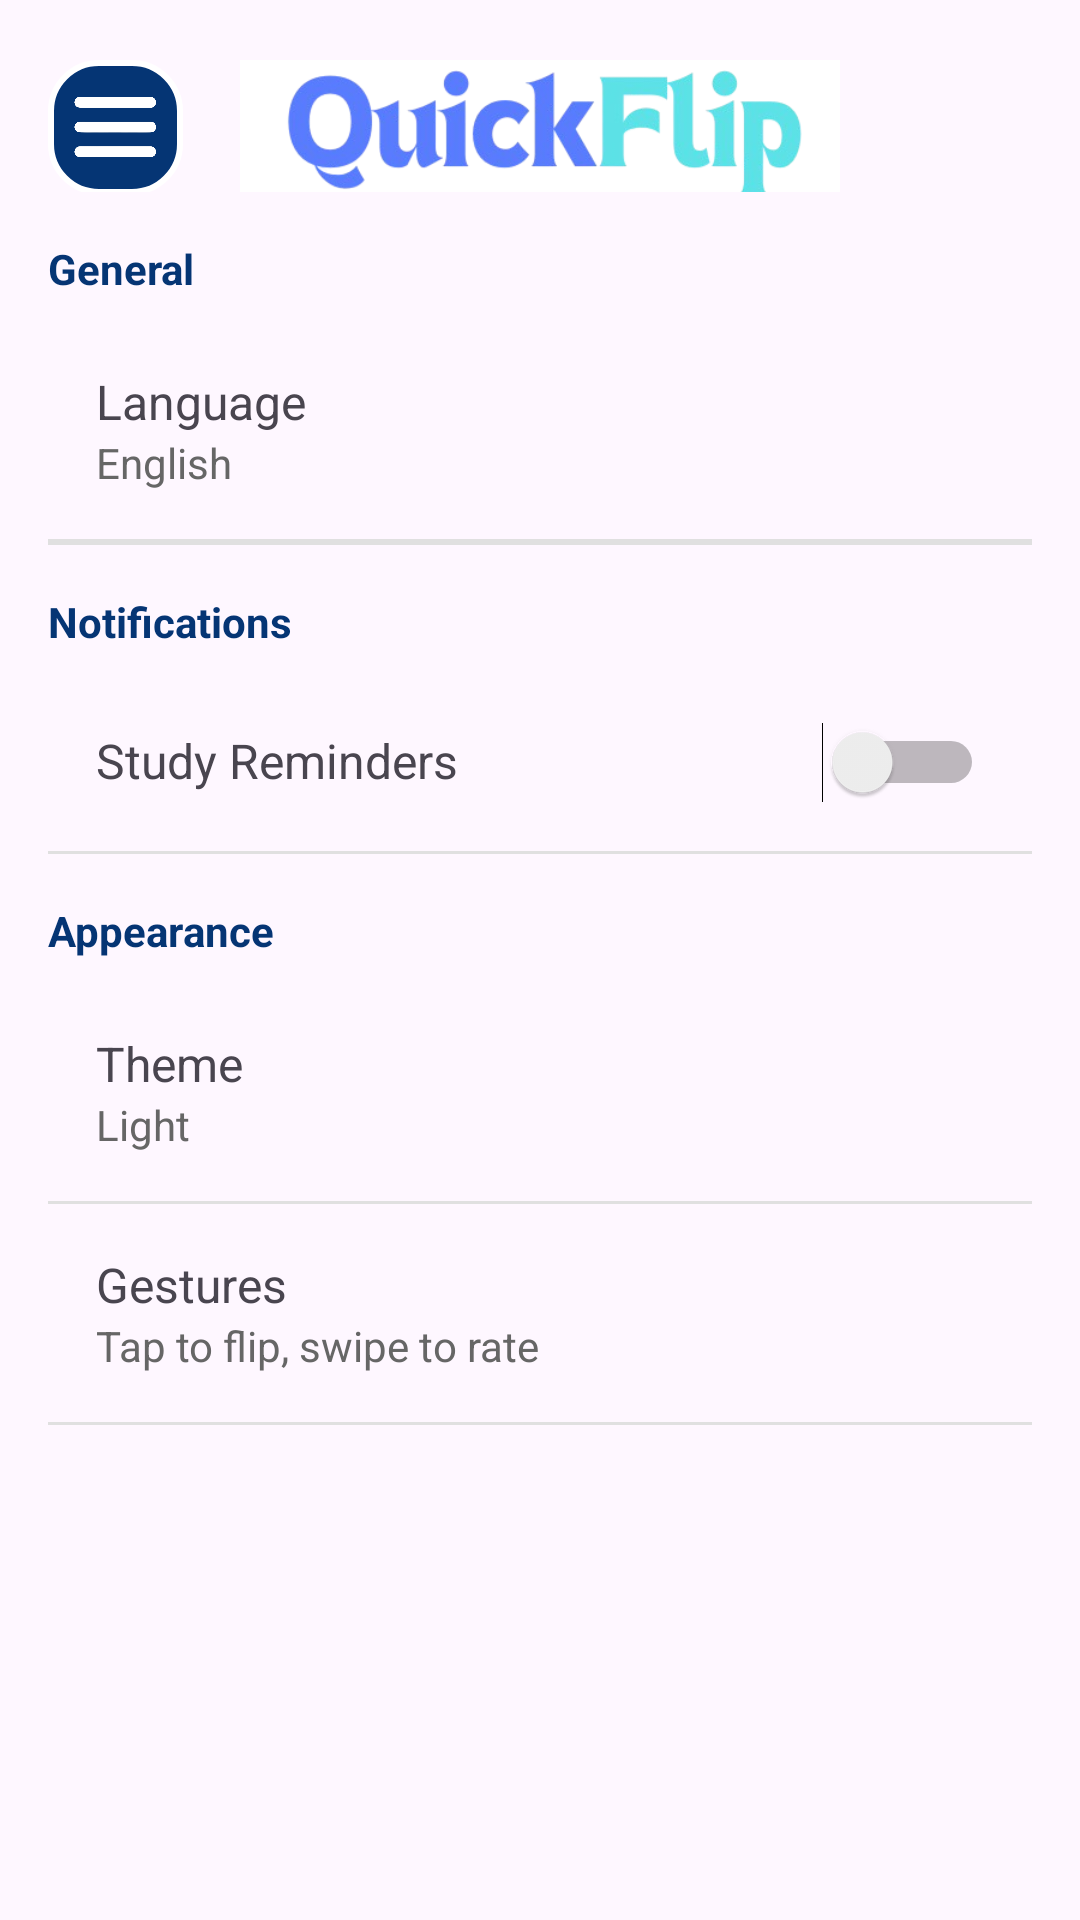

Icons on this 1080 × 1920 Android screen, each with the point to tap as (x,y):
Drawer: (115,127)
